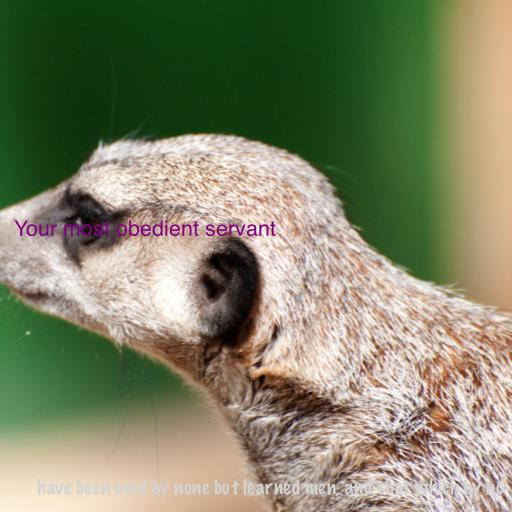Helvetica: (14, 220, 276, 237)
Marker Felt: (36, 478, 504, 498)
